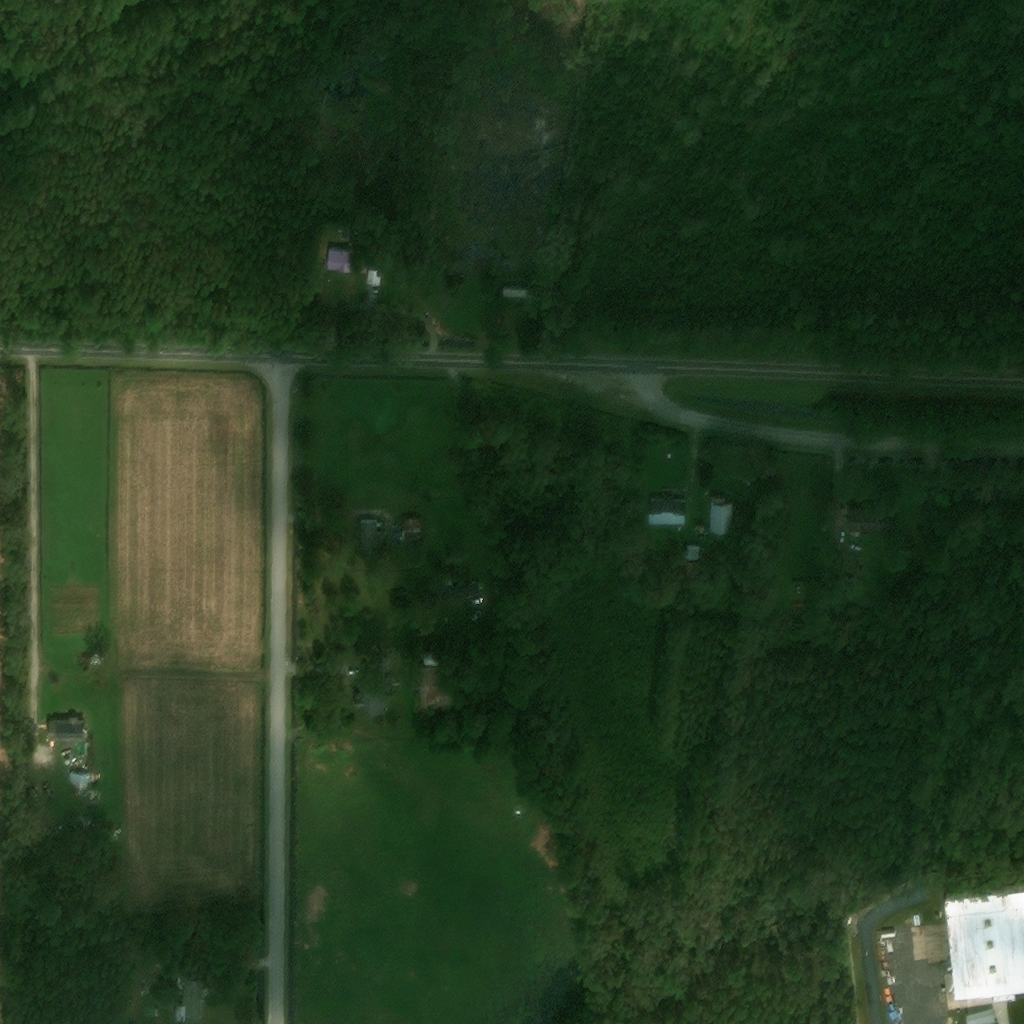destroyed: (441, 585, 484, 604)
no_damage: (937, 886, 1022, 997), (353, 671, 398, 720), (419, 670, 460, 709), (174, 980, 208, 1023), (842, 508, 896, 535), (645, 496, 689, 527), (46, 718, 91, 747), (324, 250, 370, 276), (710, 499, 736, 535), (359, 522, 384, 557), (968, 1004, 1010, 1023), (401, 519, 423, 547), (69, 774, 101, 791), (421, 654, 443, 668), (367, 272, 383, 290), (686, 547, 704, 563), (503, 291, 536, 298), (376, 658, 392, 670), (694, 525, 706, 538)
unclassified: (198, 966, 245, 976), (840, 582, 857, 594), (84, 809, 100, 815), (193, 961, 199, 968)
